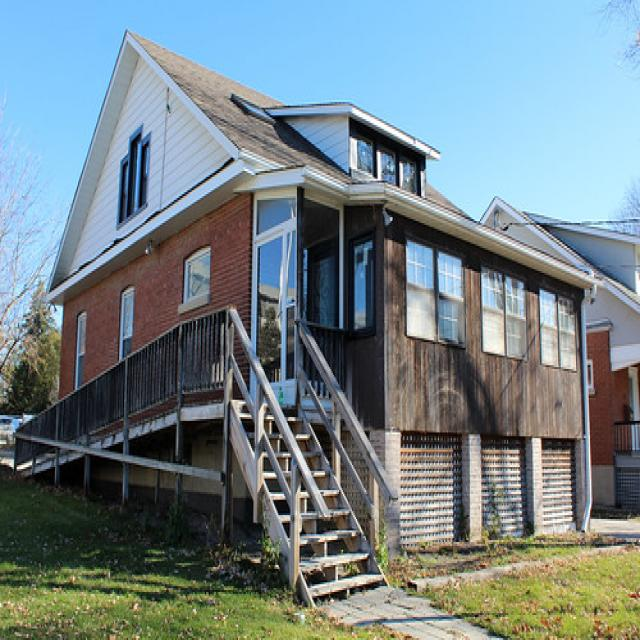Normal_building: (42, 21, 595, 586)
